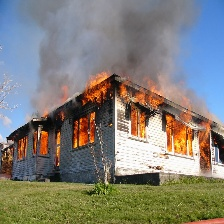fire: (8, 69, 216, 166)
smoke: (28, 1, 201, 104)
